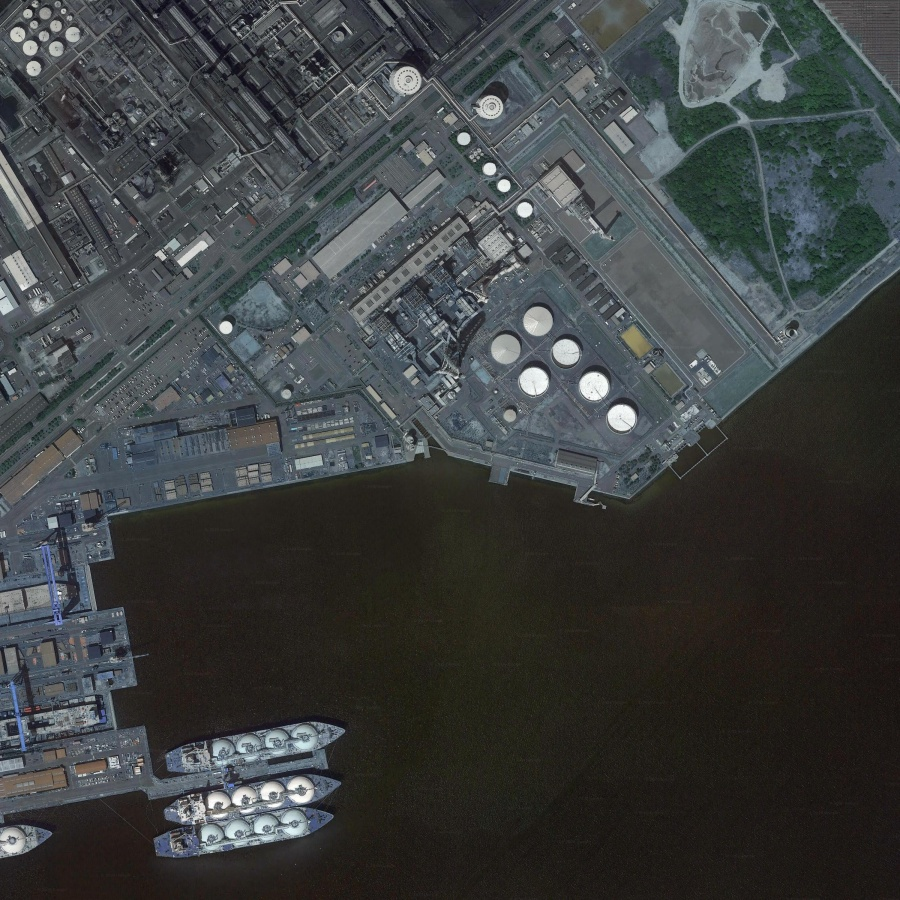PowerPlant: (358, 52, 659, 432)
